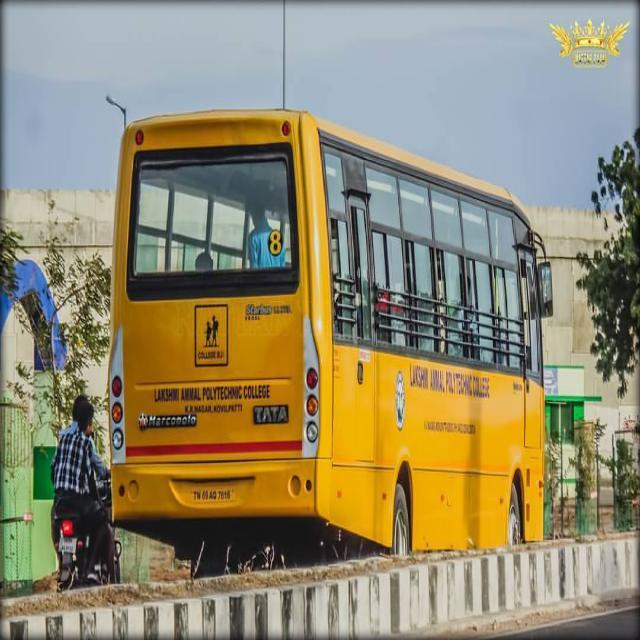Bus: (105, 105, 556, 564)
